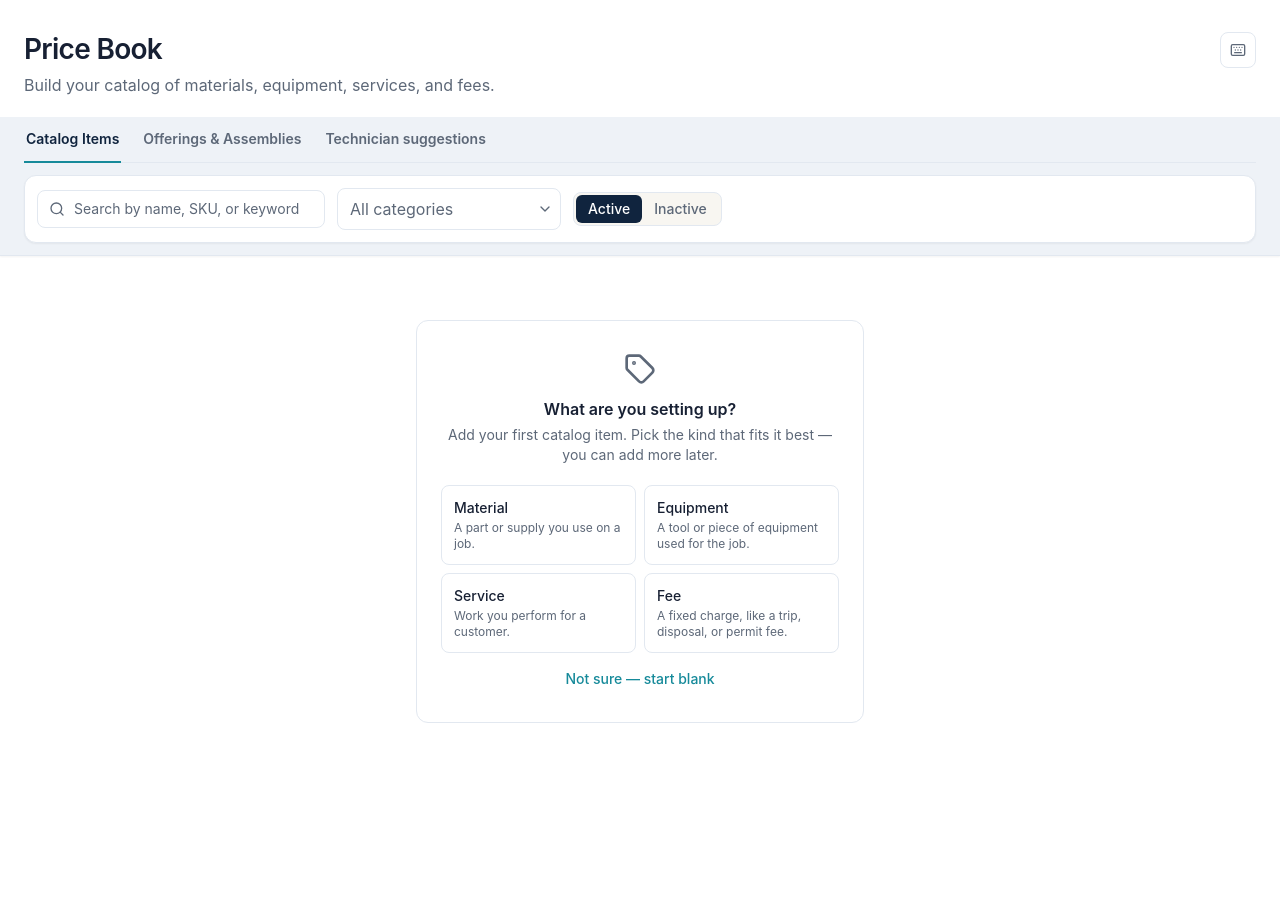
PriceBook › both the header CTA and an empty-state type choice open the same drawer
expect the heading "What are you setting up?" is shown: met, box [544,399,736,419]
Click the button "Service Work you perform for a customer." at [538, 613], box [441,573,636,653]
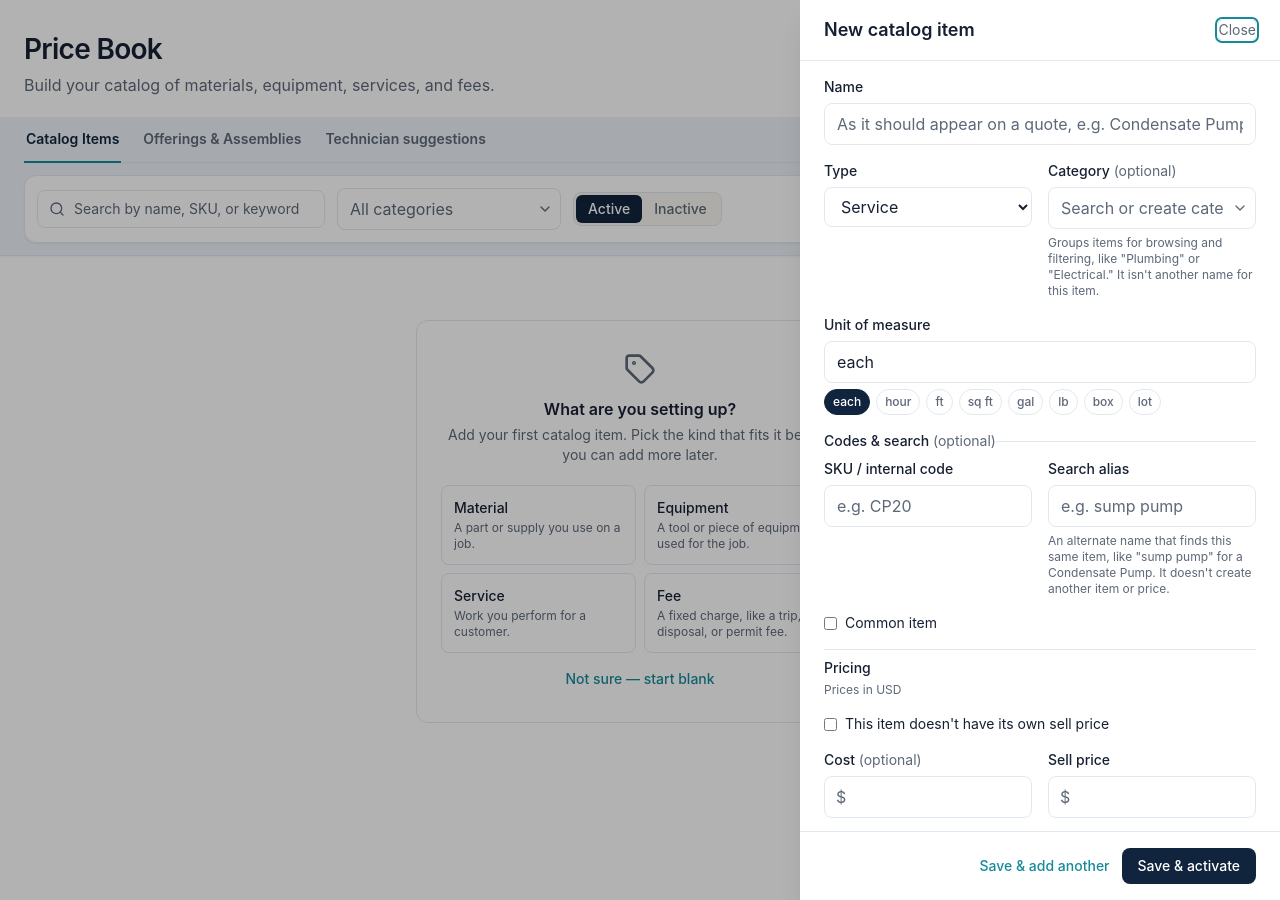
expect the dialog "New catalog item" is shown: met, box [800,0,1279,899]
